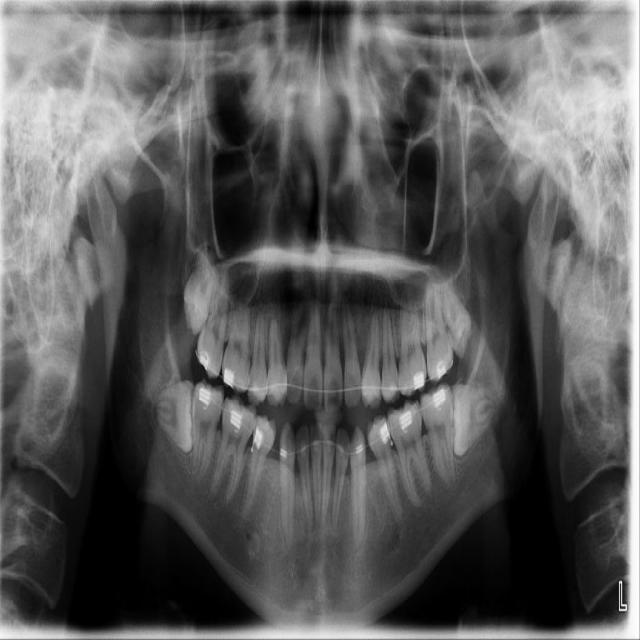3M ESPE Implant: (173, 243, 228, 337)
73: (620, 620, 630, 626)
BioHorizons Implant: (424, 278, 455, 386)
BioLife Implant: (435, 273, 480, 360)
Biomet 3i Implant: (448, 382, 496, 458)
Blue Sky Bio Implant: (419, 382, 456, 489)
Caries: (192, 259, 237, 380)
Implant: (182, 377, 227, 486)
Keystone Dental Implant: (153, 379, 199, 452)
